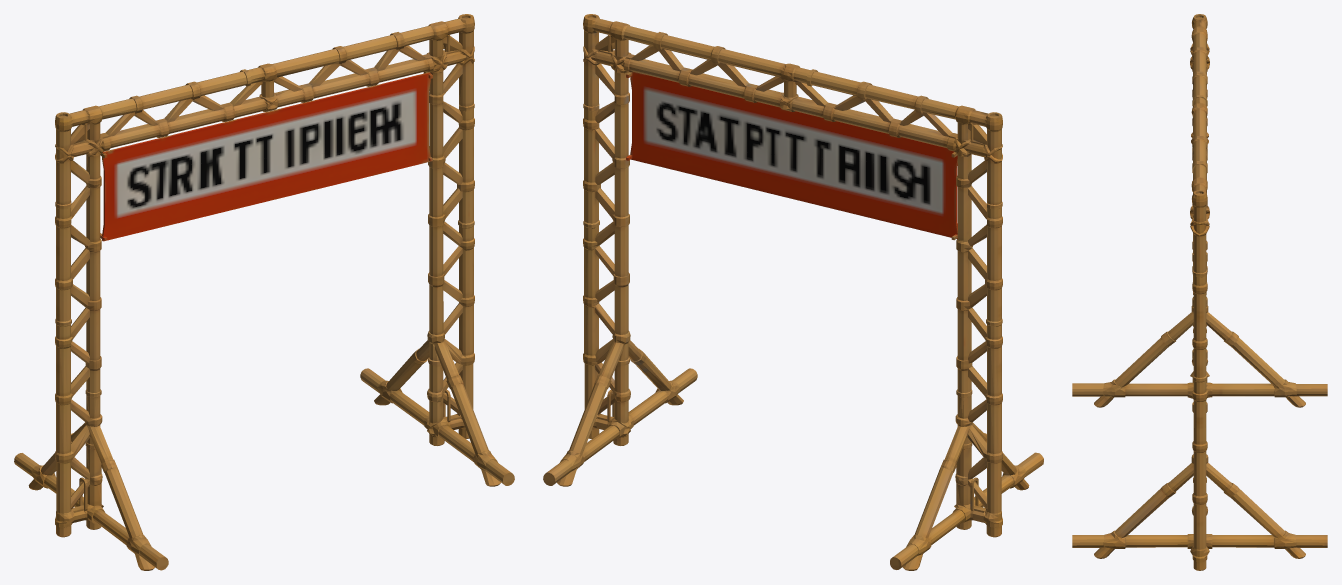
3 views of the same model, side by side, from view 1: azimuth 30°, elevation 25°; view 2: azimuth 150°, elevation 25°; view 3: azimuth 270°, elevation 25° (orthographic). The views are drawn at different scales.
Parts seen in each view (by area): view 1: texture_pbr_v128; view 2: texture_pbr_v128; view 3: texture_pbr_v128.
Part boxes in pixels (<box>): texture_pbr_v128: <box>14,14,514,570</box>; texture_pbr_v128: <box>543,14,1043,570</box>; texture_pbr_v128: <box>1072,14,1327,570</box>.
Size of the model in its own units: 0.8676 by 0.8328 by 0.5127.
Materials: 1 (1 with a texture image).
